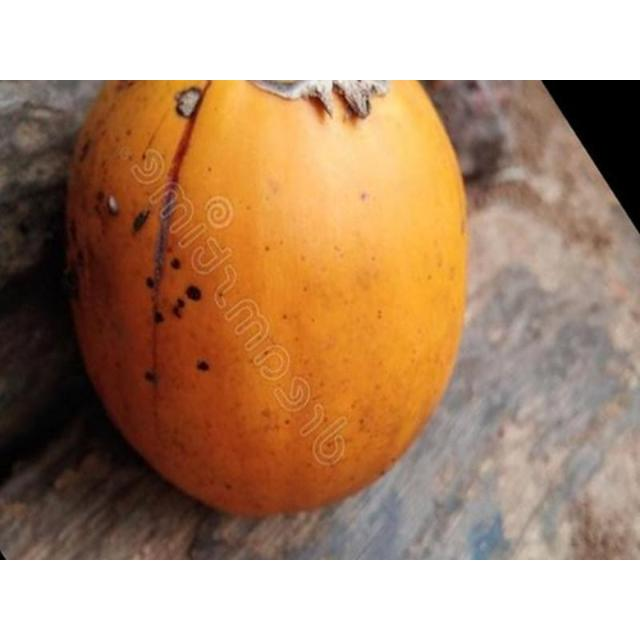good: (60, 80, 473, 523)
